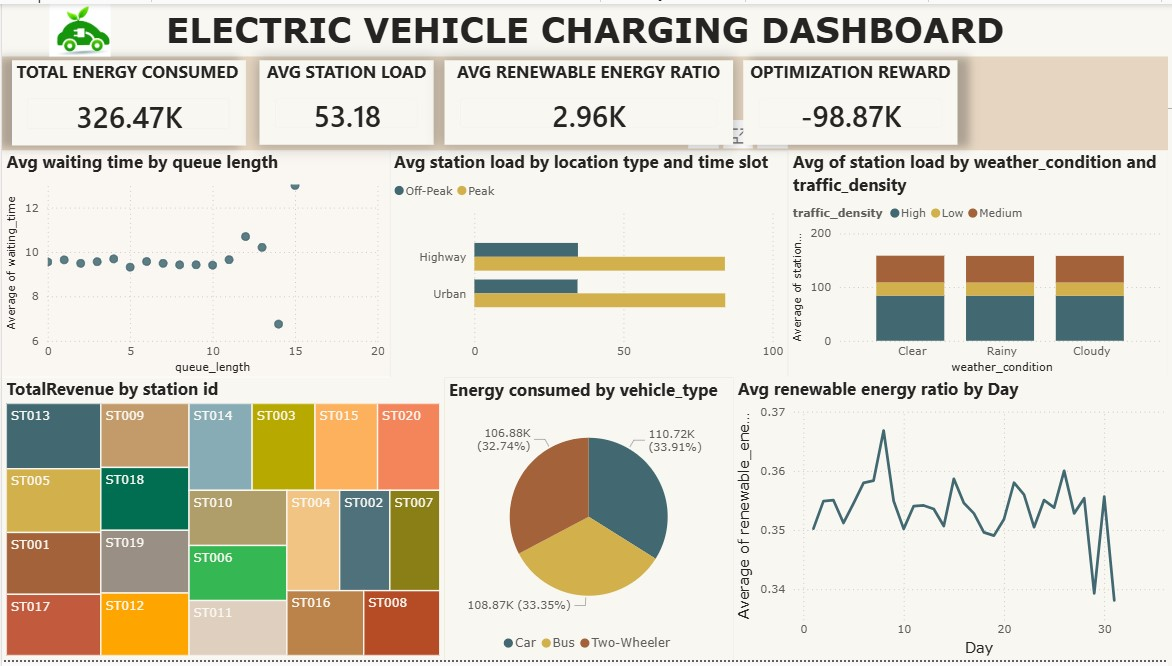

The dashboard page shown, as its layout file describes it:
{"tool":"powerbi","page":{"name":"Page 1","canvas":[1280,720],"ordinal":0},"visuals":[{"type":"clusteredBarChart","title":"Avg station load by location type and time slot","fields":{"Category":["Table1.location_type"],"Y":["Avg(Table1.station_load)"],"Series":["Table1.time_slot"]},"box":[425.4,160.5,437.7,249.7],"z":0},{"type":"treemap","title":"TotalRevenue by station id","fields":{"Group":["Table1.station_id"],"Values":["Table1.TotalRevenue"]},"box":[0,408.9,485.8,311.5],"z":1000},{"type":"scatterChart","title":"Avg waiting time by queue length","fields":{"Y":["Avg(Table1.waiting_time)"],"X":["Table1.queue_length"]},"box":[0,160.5,425.4,249.7],"z":2000},{"type":"lineChart","title":"Avg renewable energy ratio by Day","fields":{"Category":["Table1.timestamp.Variation.Date Hierarchy.Day"],"Y":["Avg(Table1.renewable_energy_ratio)"]},"box":[802.7,408.9,477.5,311.5],"z":3000},{"type":"columnChart","title":"Avg of station load by weather_condition and traffic_density","fields":{"Category":["Table1.weather_condition"],"Y":["Avg(Table1.station_load)"],"Series":["Table1.traffic_density"]},"box":[863.1,160.5,417.2,249.7],"z":4000},{"type":"textbox","box":[0,0,1280.3,57.6],"z":5000},{"type":"cardVisual","title":"TOTAL ENERGY CONSUMED","fields":{"Data":["Sum(Table1.energy_consumed_kWh)"]},"box":[11,61.7,256.6,93.3],"z":6000},{"type":"cardVisual","title":"AVG STATION LOAD","fields":{"Data":["Avg(Table1.station_load)"]},"box":[282.2,61.3,191,92.7],"z":7000},{"type":"cardVisual","title":"AVG RENEWABLE ENERGY RATIO","fields":{"Data":["Sum(Table1.renewable_energy_ratio)"]},"box":[486.1,61.3,316.4,92.7],"z":8000},{"type":"cardVisual","title":"OPTIMIZATION REWARD","fields":{"Data":["Sum(Table1.optimization_reward)"]},"box":[813.9,61.3,235.2,92.7],"z":9000},{"type":"image","box":[0,0,171.5,57.6],"z":10000},{"type":"pieChart","title":"Energy consumed by vehicle_type","fields":{"Category":["Table1.vehicle_type"],"Y":["Sum(Table1.energy_consumed_kWh)"]},"box":[485.8,410.3,317,310.1],"z":11000}]}

Visuals, with their boxes in screenshot pixels (x1, y1, x2, y2), scaled from the page's 1280x720 canvas onto the 1172x666 screenshot:
"Avg station load by location type and time slot" clusteredBarChart: bbox=[390, 148, 790, 379]
"TotalRevenue by station id" treemap: bbox=[0, 378, 445, 665]
"Avg waiting time by queue length" scatterChart: bbox=[0, 148, 390, 379]
"Avg renewable energy ratio by Day" lineChart: bbox=[735, 378, 1171, 665]
"Avg of station load by weather_condition and traffic_density" columnChart: bbox=[790, 148, 1171, 379]
textbox: bbox=[0, 0, 1171, 53]
"TOTAL ENERGY CONSUMED" cardVisual: bbox=[10, 57, 245, 143]
"AVG STATION LOAD" cardVisual: bbox=[258, 57, 433, 142]
"AVG RENEWABLE ENERGY RATIO" cardVisual: bbox=[445, 57, 735, 142]
"OPTIMIZATION REWARD" cardVisual: bbox=[745, 57, 961, 142]
image: bbox=[0, 0, 157, 53]
"Energy consumed by vehicle_type" pieChart: bbox=[445, 380, 735, 665]
